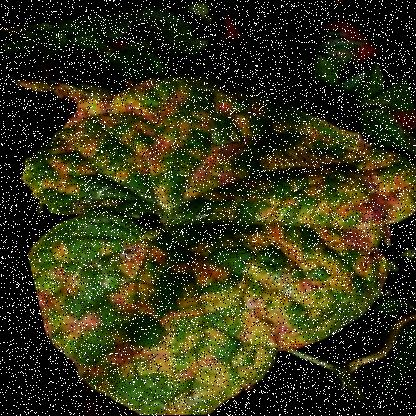DownyMildew: (17, 57, 285, 218), (89, 206, 318, 389), (195, 149, 415, 294), (22, 207, 193, 352)
